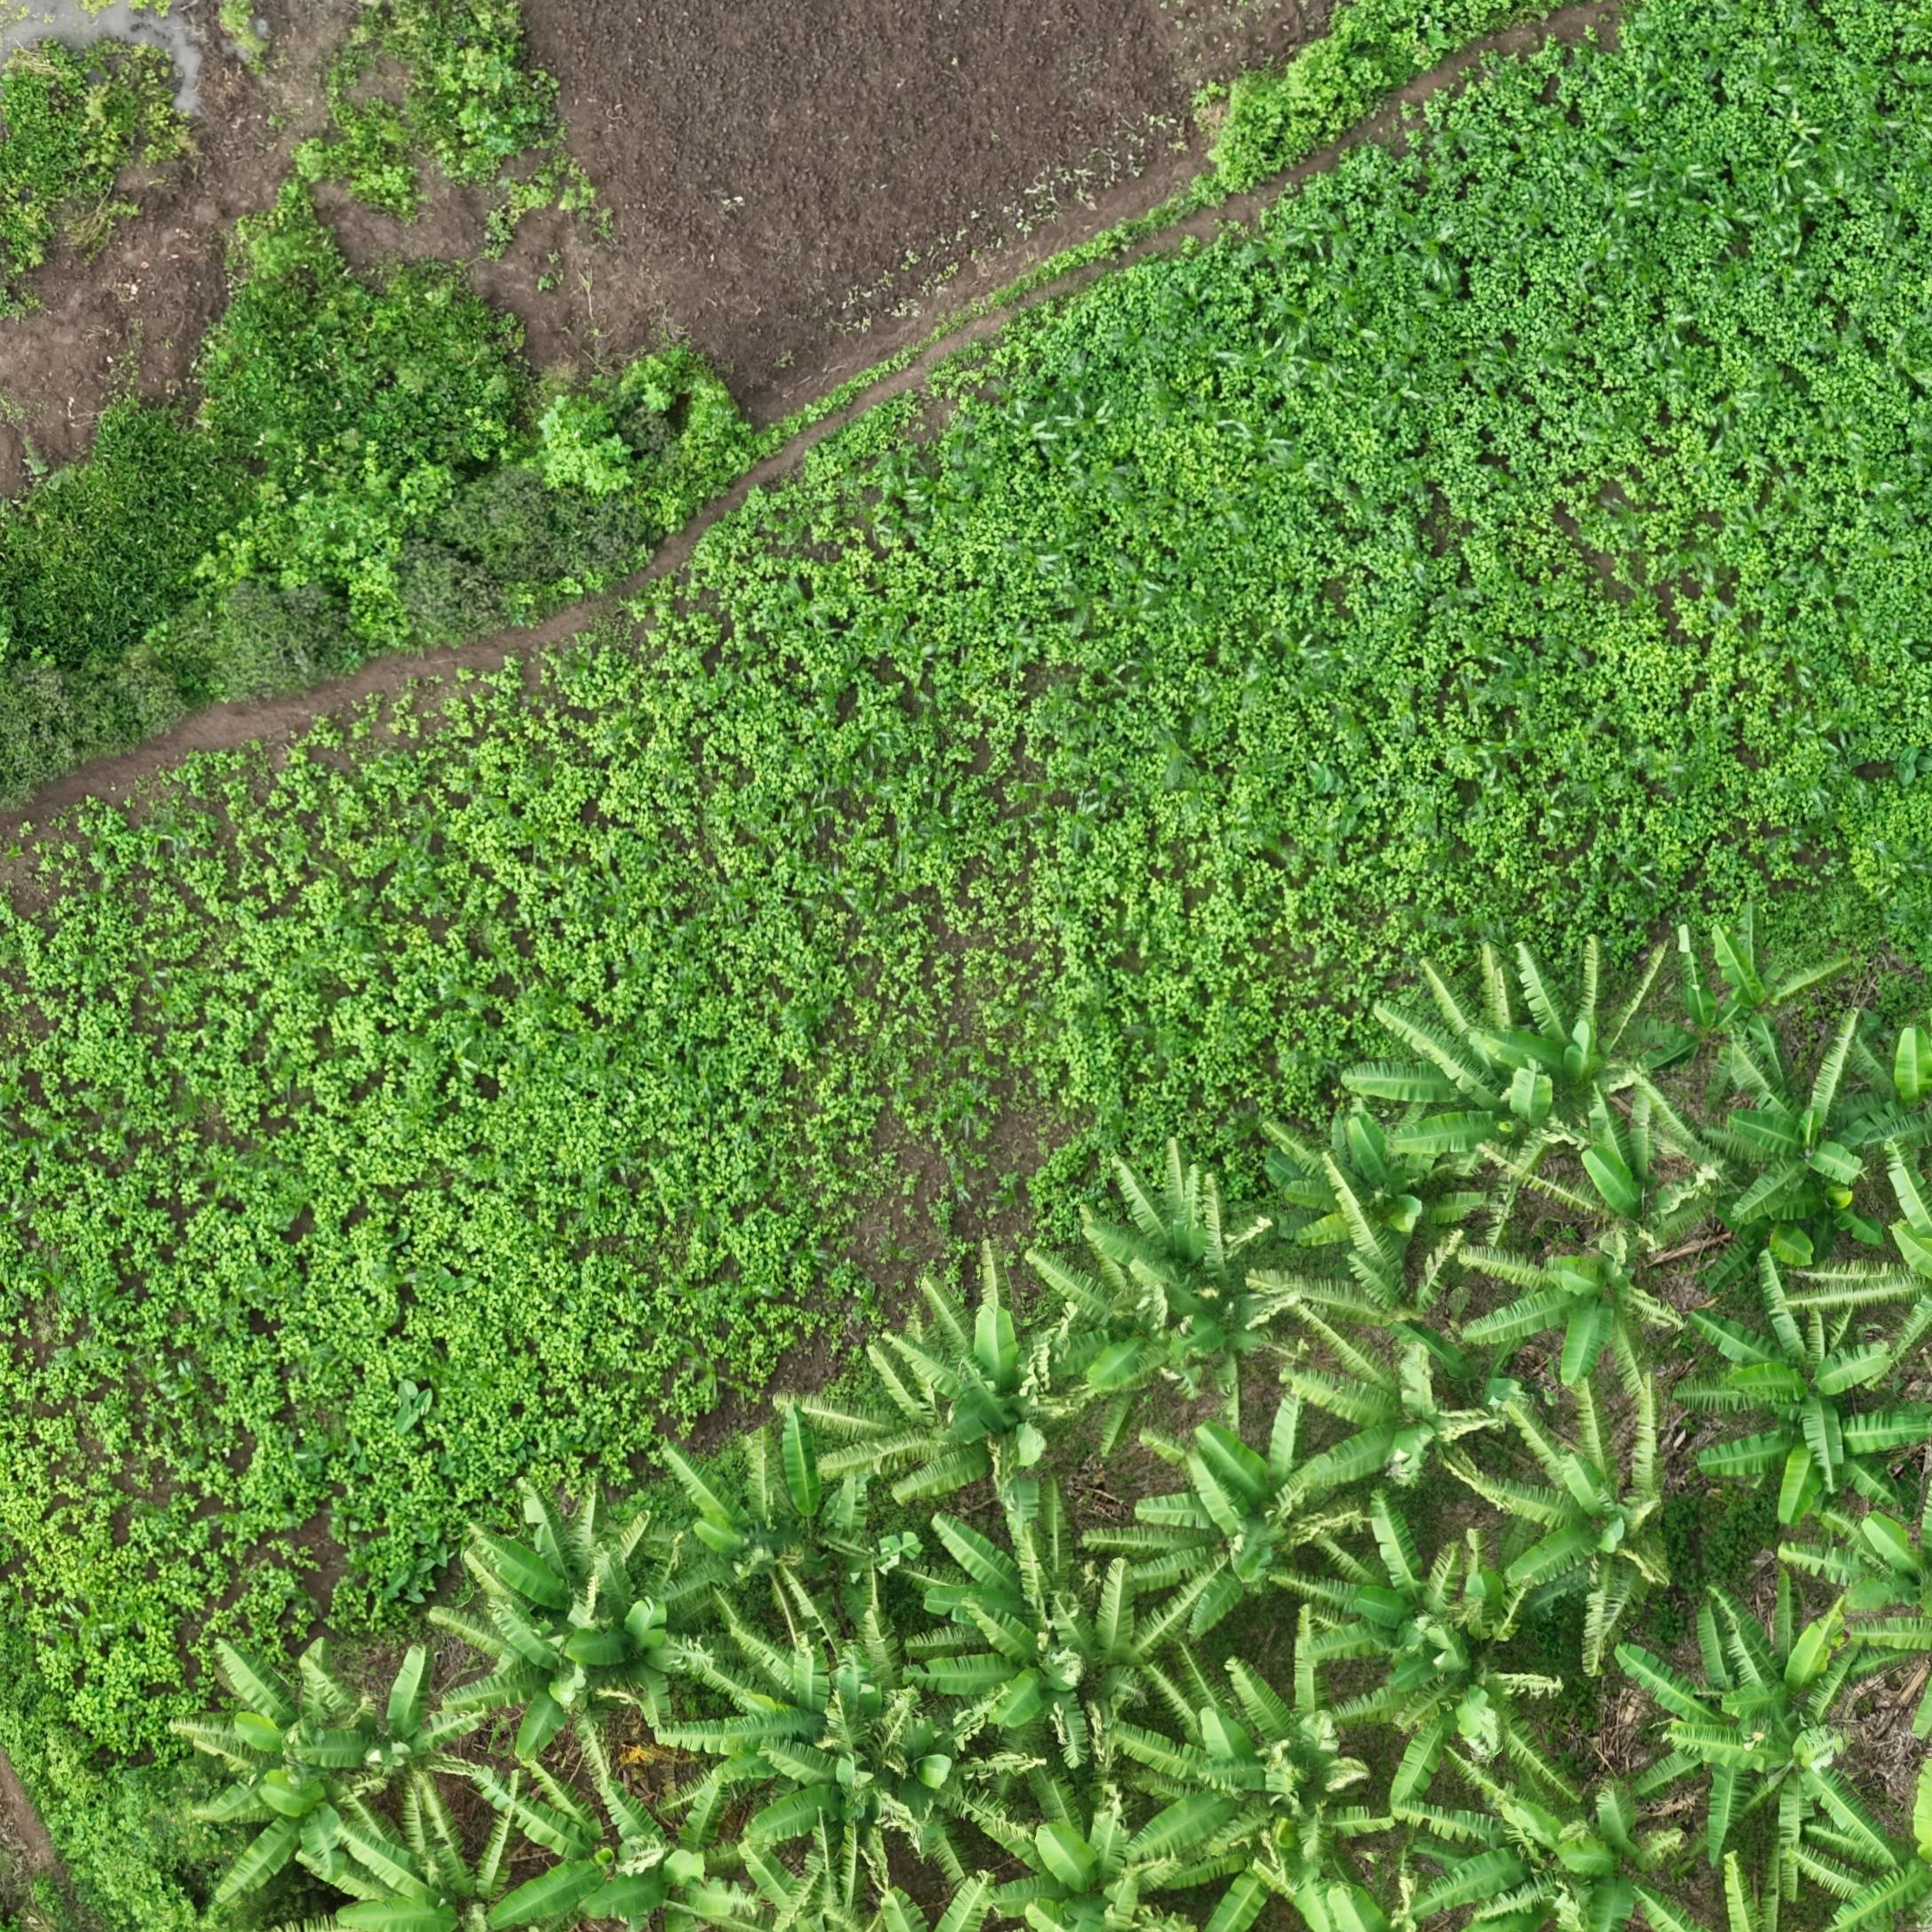Banana: (909, 1279, 1113, 1622), (1690, 1670, 1932, 1932), (1509, 1474, 1766, 1714), (1530, 970, 1753, 1214), (1306, 1364, 1552, 1583), (1727, 1302, 1932, 1541), (1380, 1688, 1642, 1858), (295, 1714, 499, 1932), (1394, 1001, 1591, 1223), (1178, 1470, 1431, 1642), (161, 1721, 366, 1932), (1108, 1215, 1290, 1453), (980, 1656, 1221, 1829), (1249, 1686, 1463, 1877), (672, 1491, 862, 1707), (1302, 1260, 1541, 1428), (444, 1649, 649, 1840), (1759, 1053, 1932, 1265), (1338, 1559, 1523, 1748), (460, 1569, 704, 1709), (1522, 1292, 1766, 1424), (1122, 1548, 1316, 1707), (1295, 1173, 1545, 1293), (1023, 1828, 1306, 1932), (837, 1424, 1040, 1562), (725, 1695, 886, 1863), (1782, 1410, 1932, 1585), (1493, 1790, 1661, 1932), (1766, 947, 1925, 1083), (803, 1805, 966, 1932), (1704, 984, 1829, 1145), (1840, 1201, 1932, 1412), (1612, 1851, 1789, 1932), (605, 1677, 718, 1790), (1822, 1835, 1932, 1932)
